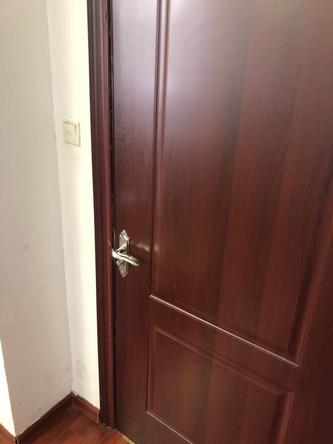switch: (62, 117, 79, 144)
